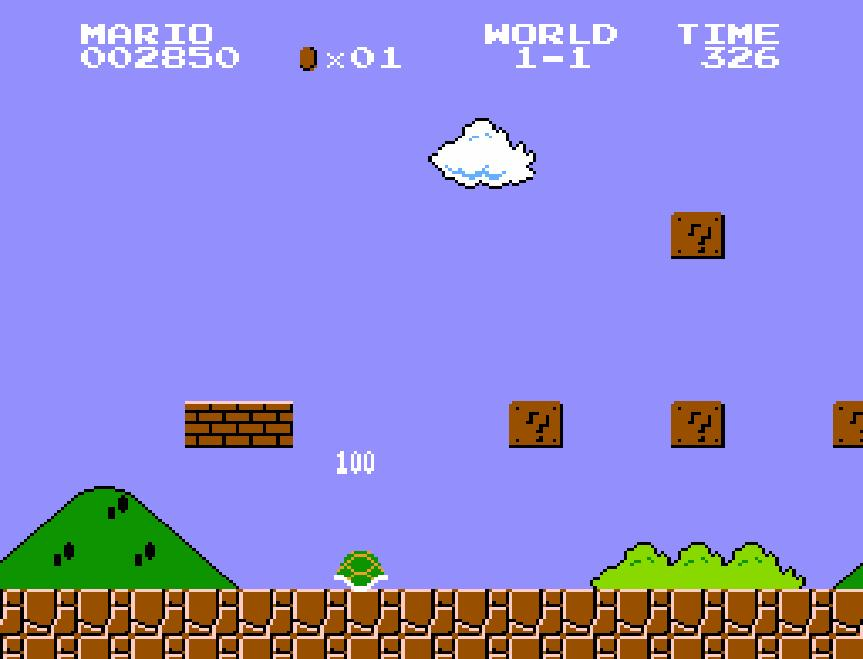little_mario: (322, 485, 380, 535)
